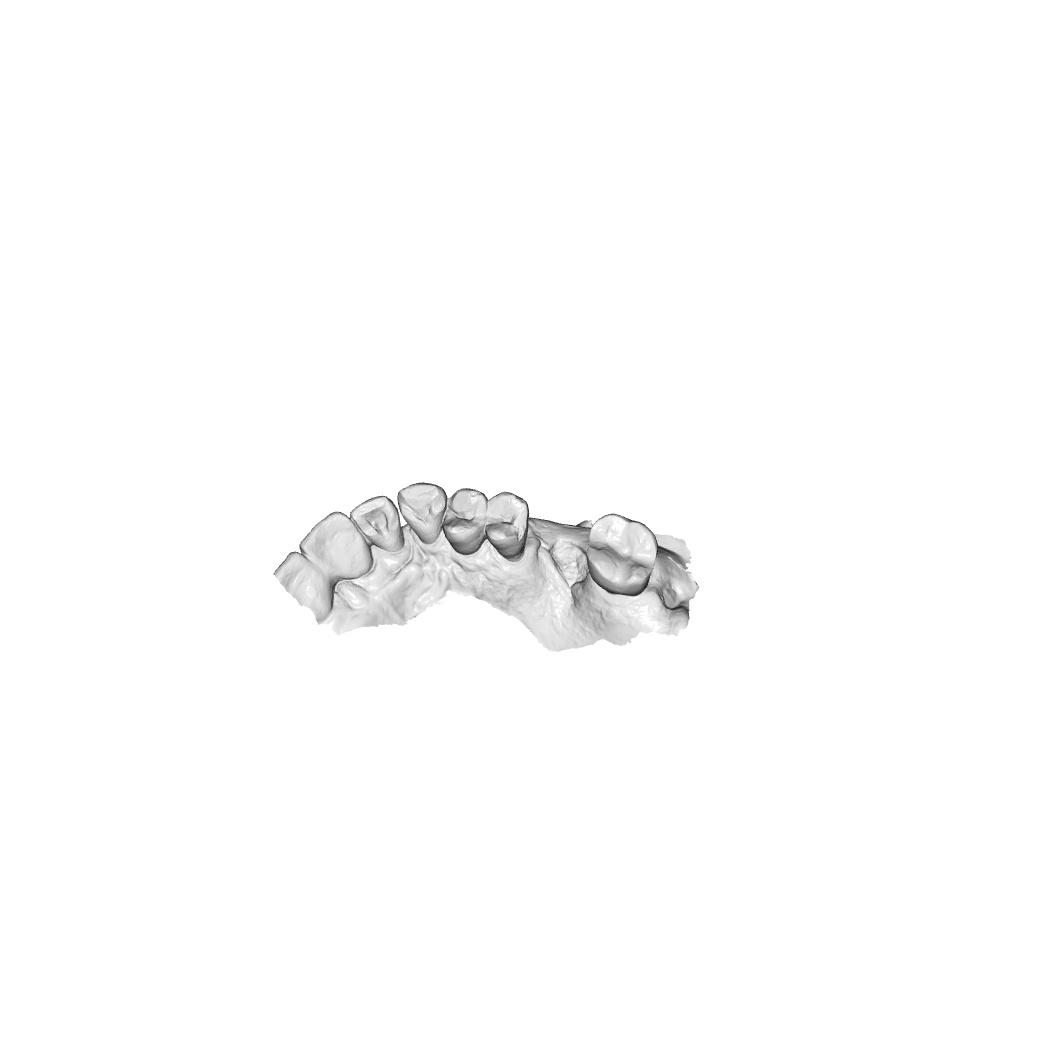canine: (397, 481, 448, 546)
incisor: (298, 511, 375, 581), (273, 550, 336, 619), (350, 495, 406, 553)
molar: (585, 512, 659, 598)
premolar: (484, 490, 530, 563), (442, 487, 489, 556)
